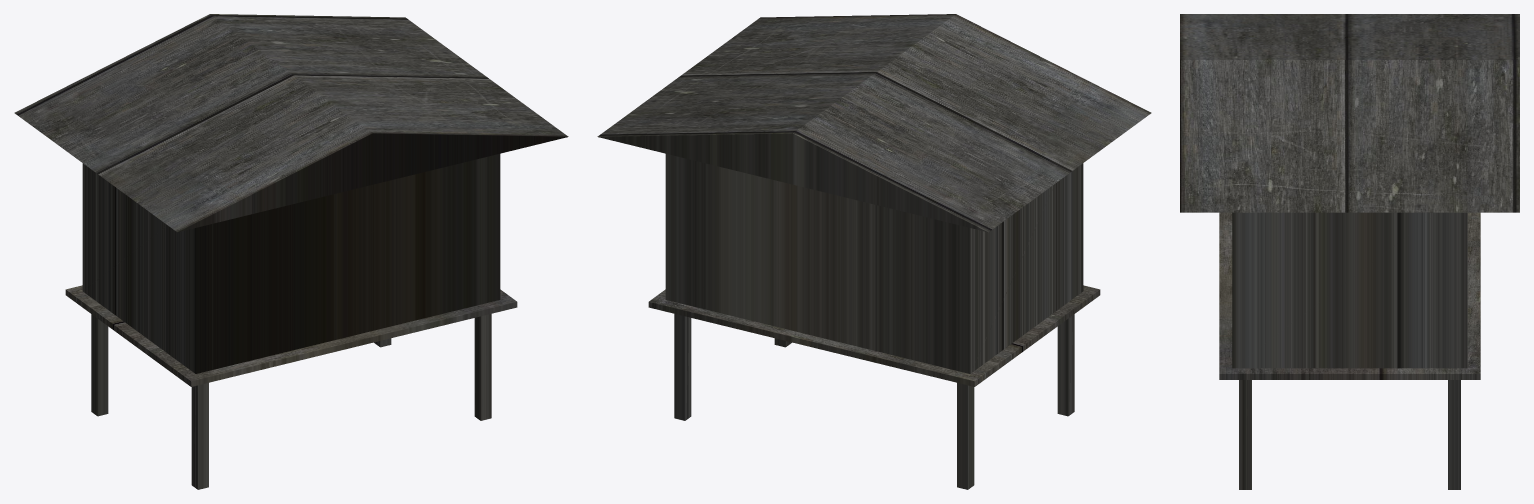
Rendered from rice_storage.glb.
3 views of the same model, side by side, from view 1: azimuth 30°, elevation 25°; view 2: azimuth 150°, elevation 25°; view 3: azimuth 270°, elevation 25° (orthographic). The views are drawn at different scales.
Visible parts, largest first — view 1: RiceStorage; view 2: RiceStorage; view 3: RiceStorage.
Boxes of the visible parts, bbox=[...] form: RiceStorage: bbox=[14, 14, 568, 489]; RiceStorage: bbox=[597, 14, 1151, 489]; RiceStorage: bbox=[1180, 14, 1519, 489].
Size of the model in its own units: 3.6 by 3 by 2.6.
1 material, 1 textured.
